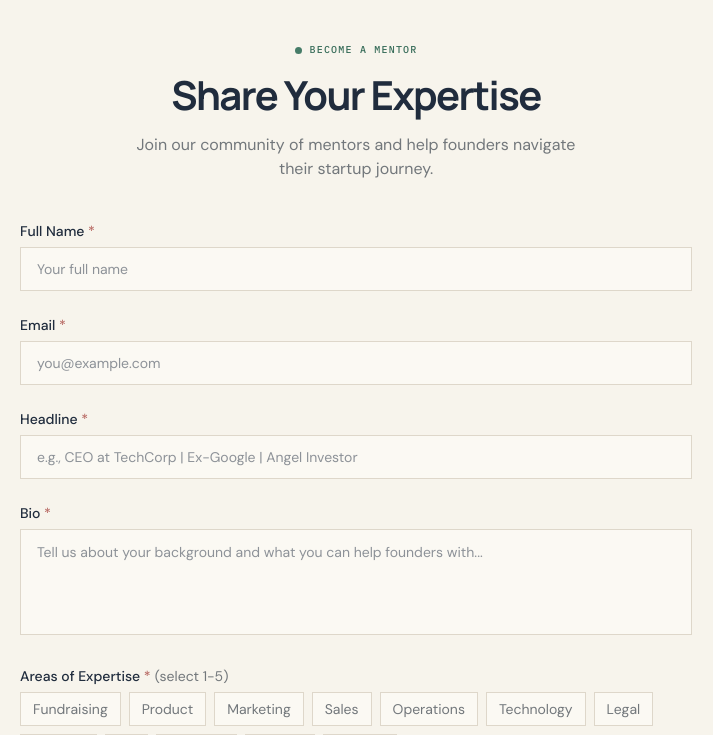
Test: MentorApplyPage › submits form successfully and shows thank you message
Fill in required fields
Type "Jane Doe" into the field labelled "Full Name *". click: (356, 269)
box: [20,247,692,291]
Type "jane@example.com" into the field labelled "Email *". click: (356, 363)
box: [20,341,692,385]
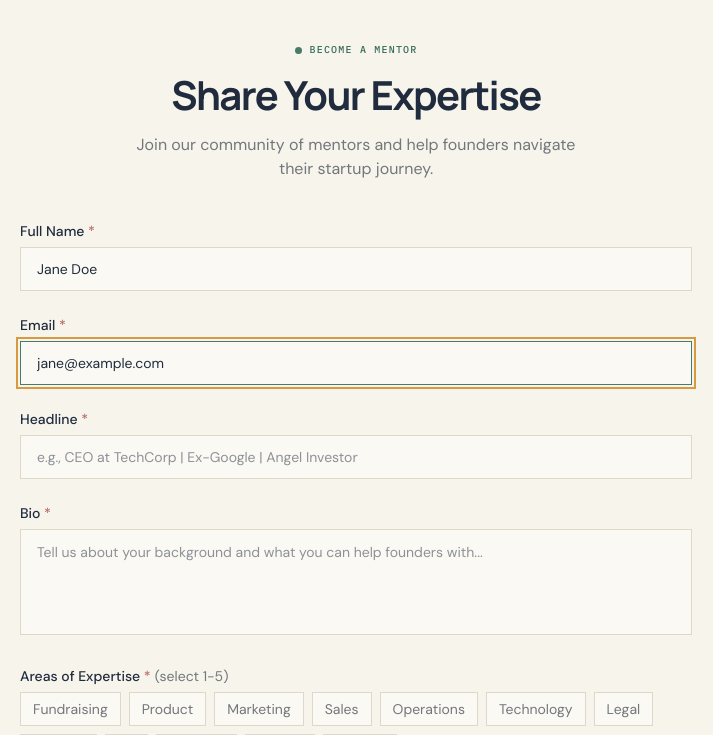
Type "CEO at TechCorp" into the field labelled "Headline *". click: (356, 457)
box: [20,435,692,479]
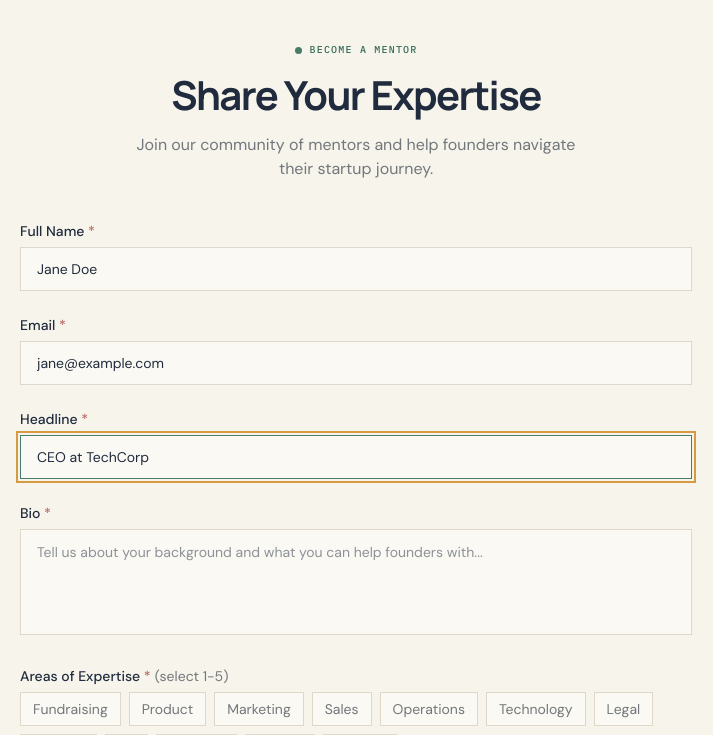
Type "20 years experience" into the text box labelled "Bio *". click: (356, 582)
box: [20,529,692,635]
(page scrolled)
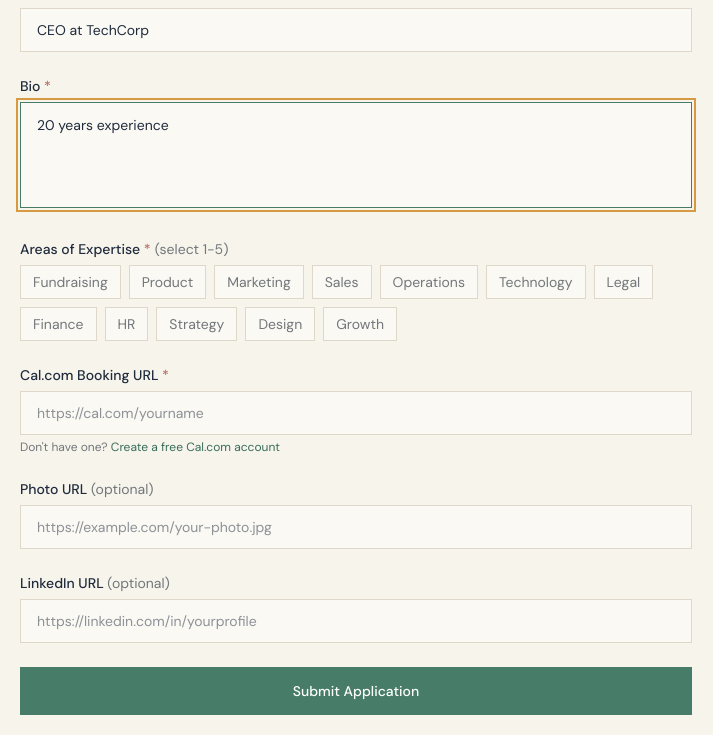
Type "https://cal.com/janedoe" into the field labelled "Cal.com Booking URL *". click: (356, 413)
box: [20,391,692,435]
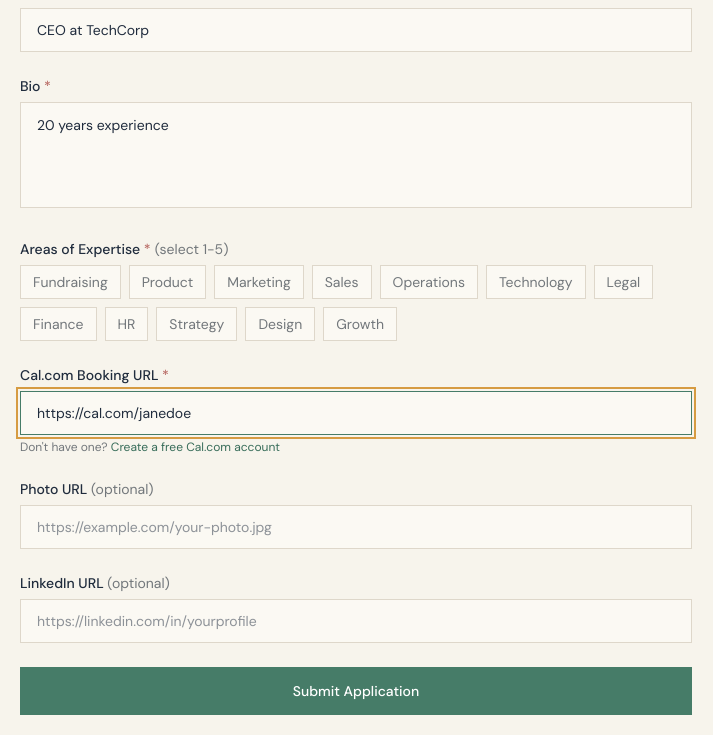
Click the button "Fundraising". click: (70, 282)
box: [20,265,121,299]
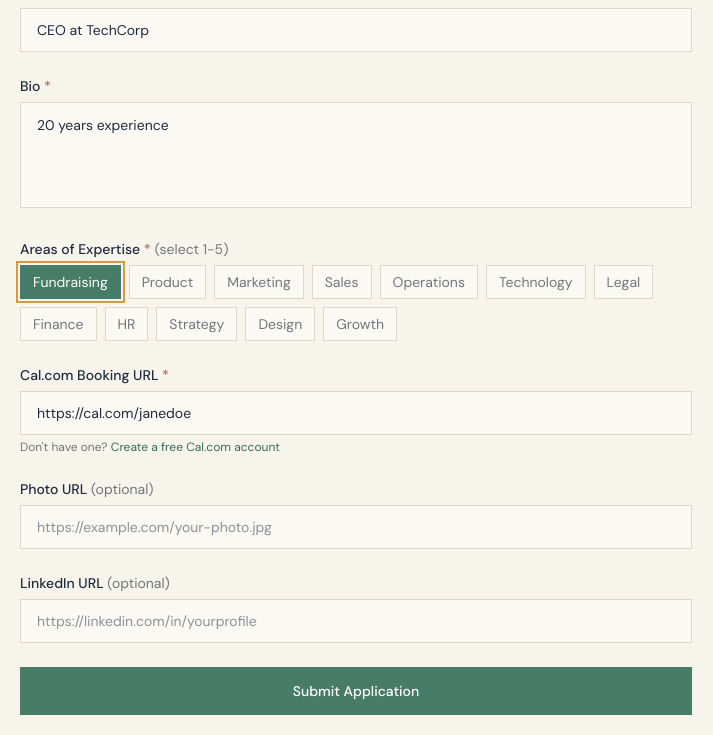
Click the button "Submit Application". click: (356, 691)
box: [20,667,692,715]
(page scrolled)
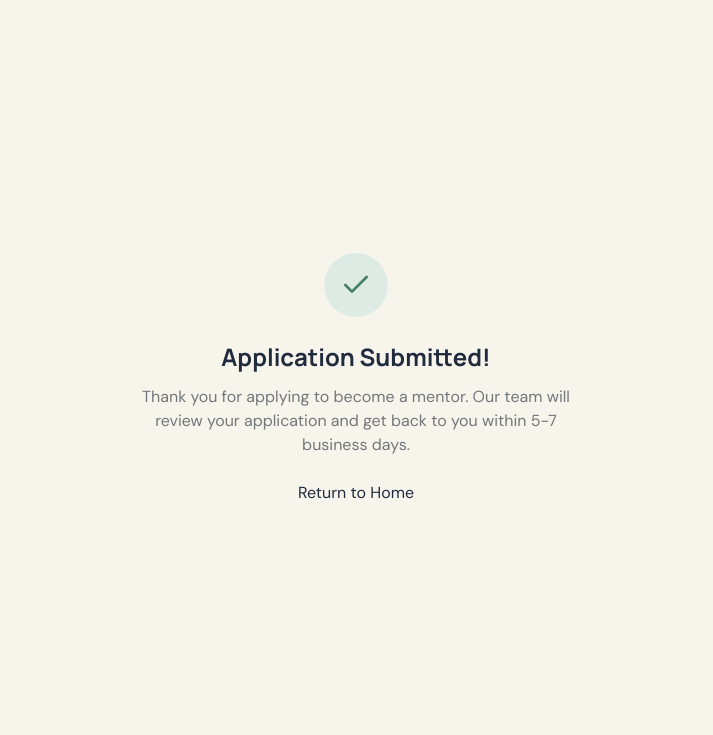
Expected: the heading "Application Submitted!" is shown, [221,340,491,373]
Expected: the text "Our team will review your application" is shown, [142,386,570,455]
